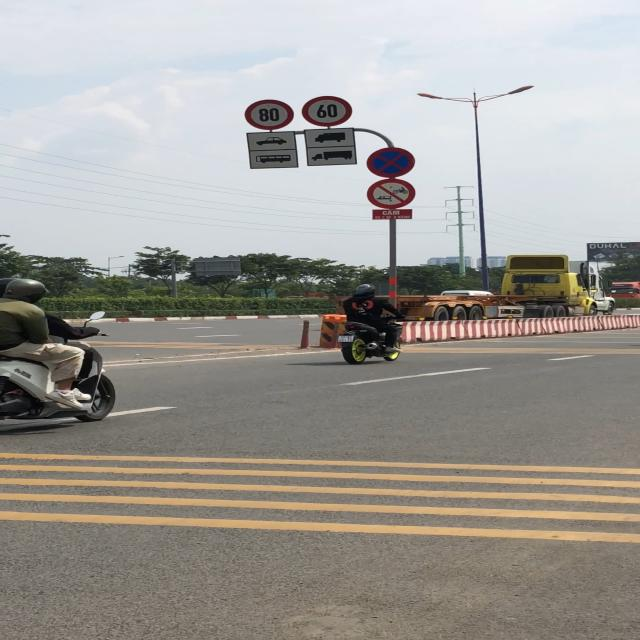Bien bao cam dung xe va do xe: (363, 146, 418, 178)
Bien bao toc do toi da cho phep: (300, 96, 356, 128), (243, 98, 296, 130)
